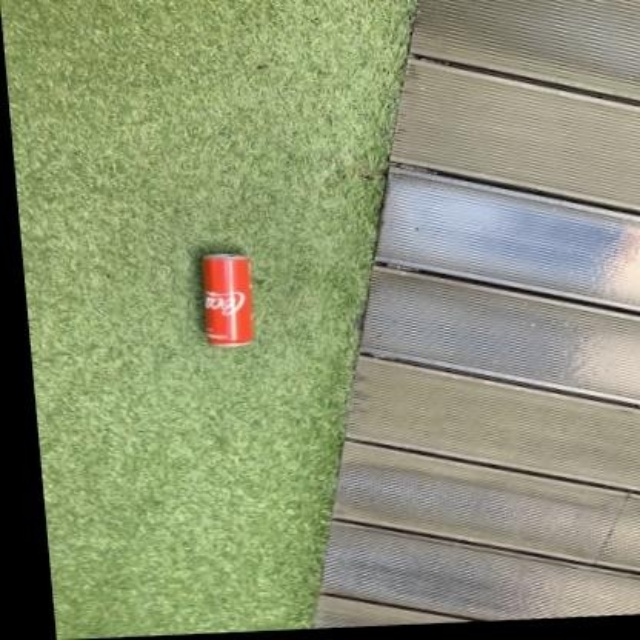trash: (203, 254, 252, 343)
